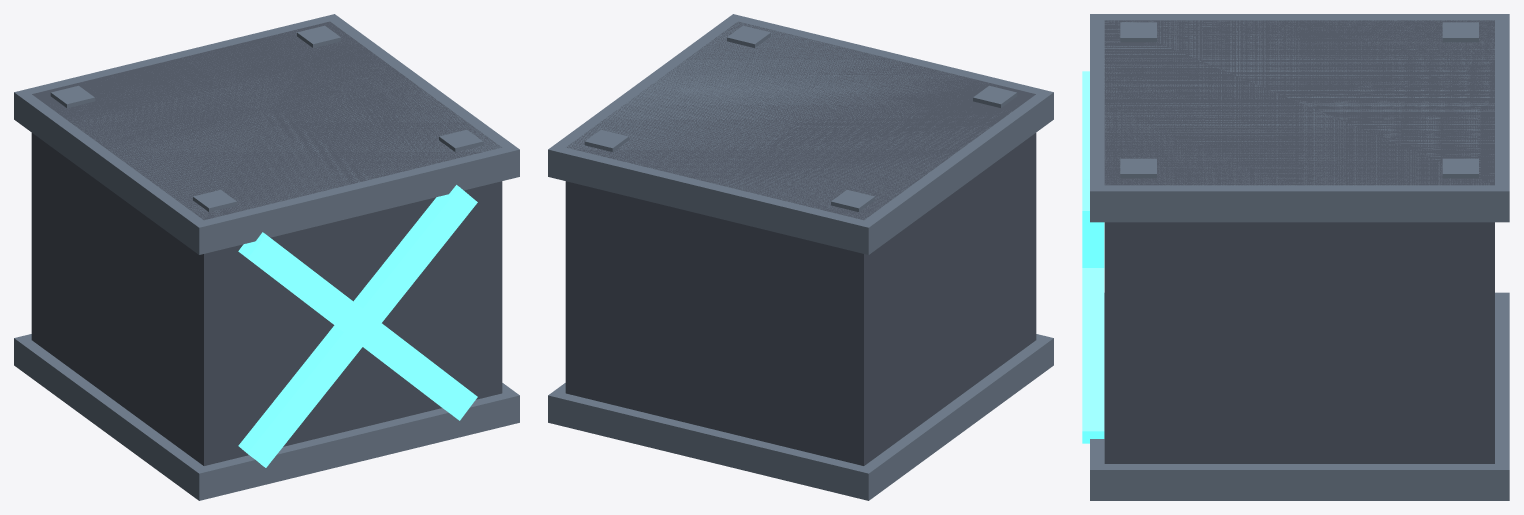
The model's file is AXM-CRATE-001_LOD2.glb.
3 renders of one model, left to right at view 1: azimuth 30°, elevation 25°; view 2: azimuth 150°, elevation 25°; view 3: azimuth 270°, elevation 25°, orthographic. The views are drawn at different scales.
Parts seen in each view (by area): view 1: body, top_rim, bottom_rim, front_brace_a, front_brace_b, corner_post__g02, corner_post__g01, corner_post__g00, corner_post__g03; view 2: body, top_rim, bottom_rim, corner_post__g03, corner_post__g00, corner_post__g01, corner_post__g02; view 3: body, top_rim, bottom_rim, front_brace_b, front_brace_a, corner_post__g00, corner_post__g02, corner_post__g01, corner_post__g03.
Boxes of the visible parts, <box> form: body: <box>31,21,502,465</box>; top_rim: <box>14,14,519,254</box>; bottom_rim: <box>14,334,519,500</box>; front_brace_a: <box>238,185,477,467</box>; front_brace_b: <box>238,232,477,420</box>; corner_post__g02: <box>439,129,483,151</box>; corner_post__g01: <box>50,85,94,107</box>; corner_post__g00: <box>193,189,236,211</box>; corner_post__g03: <box>297,25,340,47</box>; body: <box>565,21,1036,465</box>; top_rim: <box>548,14,1053,254</box>; bottom_rim: <box>548,334,1053,500</box>; corner_post__g03: <box>584,129,628,151</box>; corner_post__g00: <box>973,85,1017,107</box>; corner_post__g01: <box>831,189,874,211</box>; corner_post__g02: <box>727,25,770,47</box>; body: <box>1104,20,1494,463</box>; top_rim: <box>1090,14,1509,222</box>; bottom_rim: <box>1090,292,1509,500</box>; front_brace_b: <box>1082,71,1104,443</box>; front_brace_a: <box>1082,178,1104,267</box>; corner_post__g00: <box>1120,22,1156,42</box>; corner_post__g02: <box>1120,158,1156,178</box>; corner_post__g01: <box>1442,22,1478,42</box>; corner_post__g03: <box>1442,158,1478,178</box>.
Bounding box in the file's own units: 0.86 × 0.72 × 0.8755.
